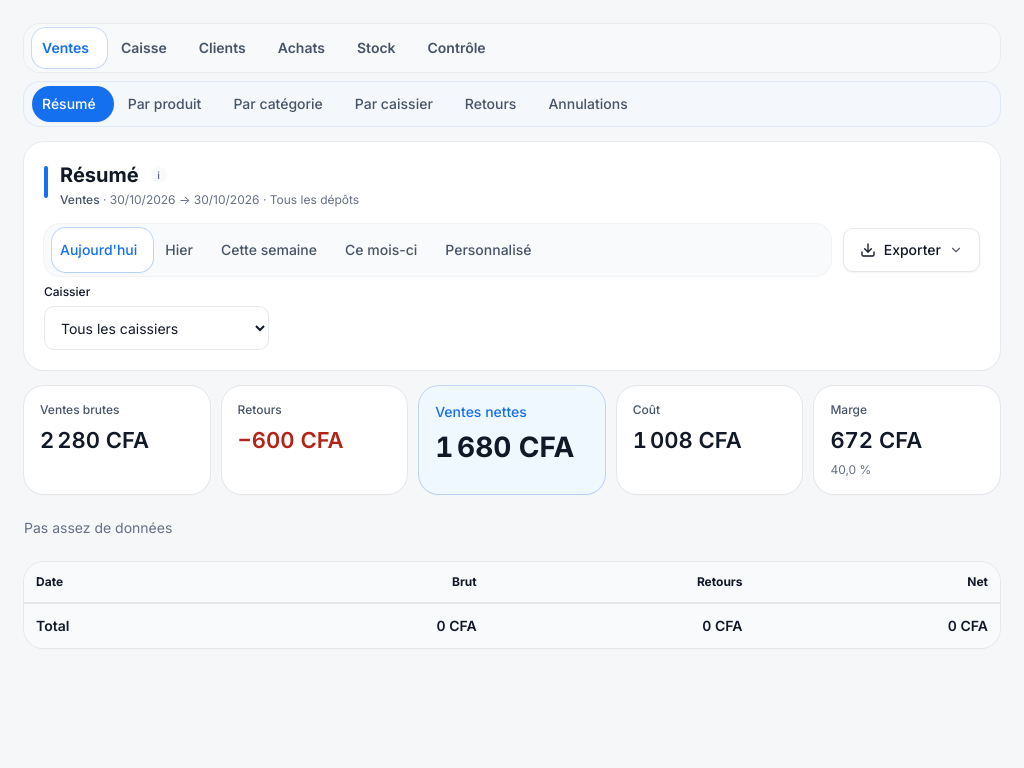
Test case: ReportsPage › reveals custom date inputs and keeps All depots in the toolbar
Expected: the text "Ventes · 30/10/2026 → 30/10/2026 · Tous les dépôts" is shown, [60,192,359,207]
Click the button "Personnalisé" at (488, 250), box [433,228,543,272]
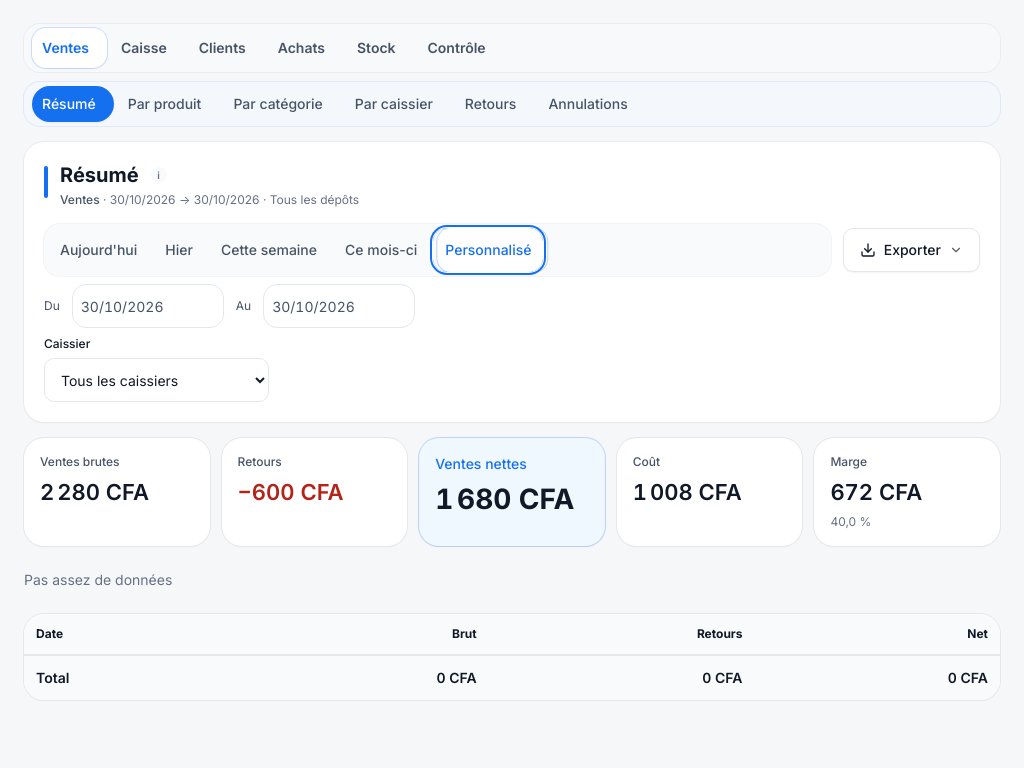
Expected: the text "Du" is shown, [44,298,60,314]
Expected: the text "Au" is shown, [236,298,251,314]
